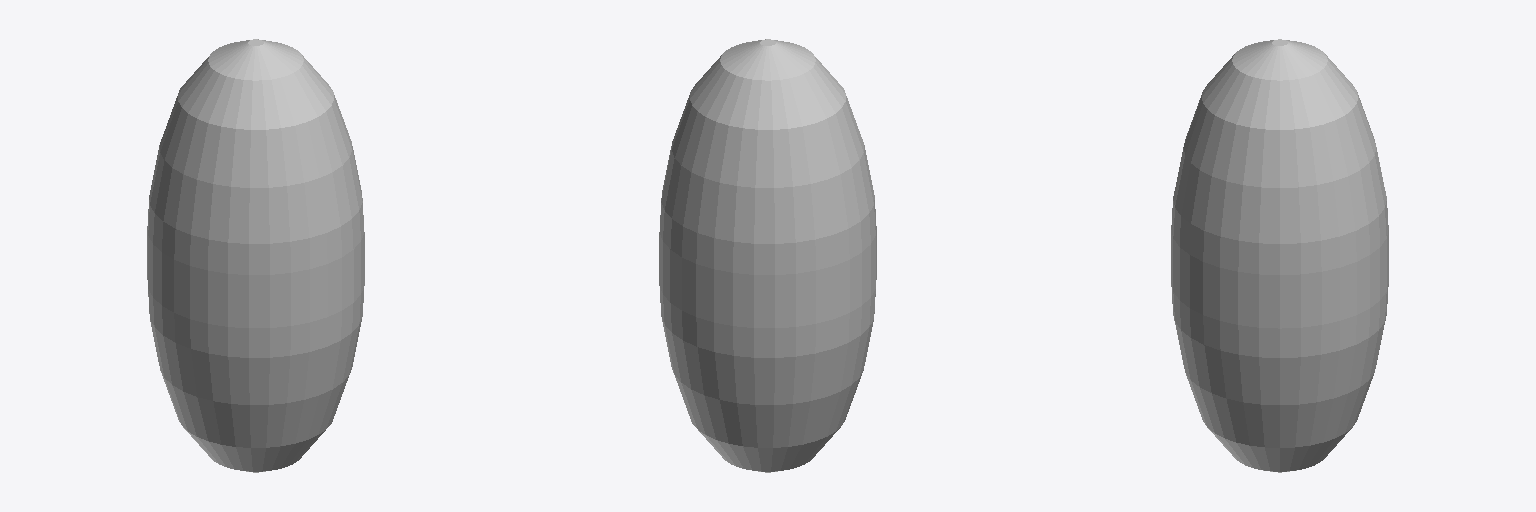
Rendered from FootBall.obj.
The picture shows the model from 3 angles: view 1: azimuth 30°, elevation 25°; view 2: azimuth 150°, elevation 25°; view 3: azimuth 270°, elevation 25°; orthographic projection.
Visible parts, largest first — view 1: Football; view 2: Football; view 3: Football.
Boxes of the visible parts, x1,y1,x2,y2 form: Football: [147, 39, 364, 472]; Football: [659, 39, 876, 472]; Football: [1171, 39, 1388, 472].
Size of the model in its own units: 1.2 by 2.6 by 1.2.